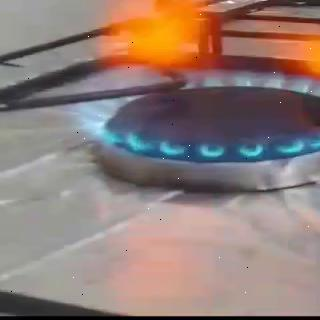fire: (57, 0, 320, 161)
